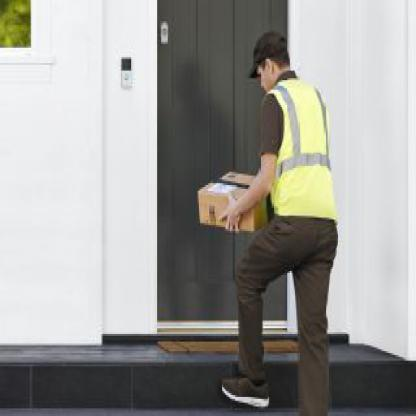package: (194, 166, 282, 238)
